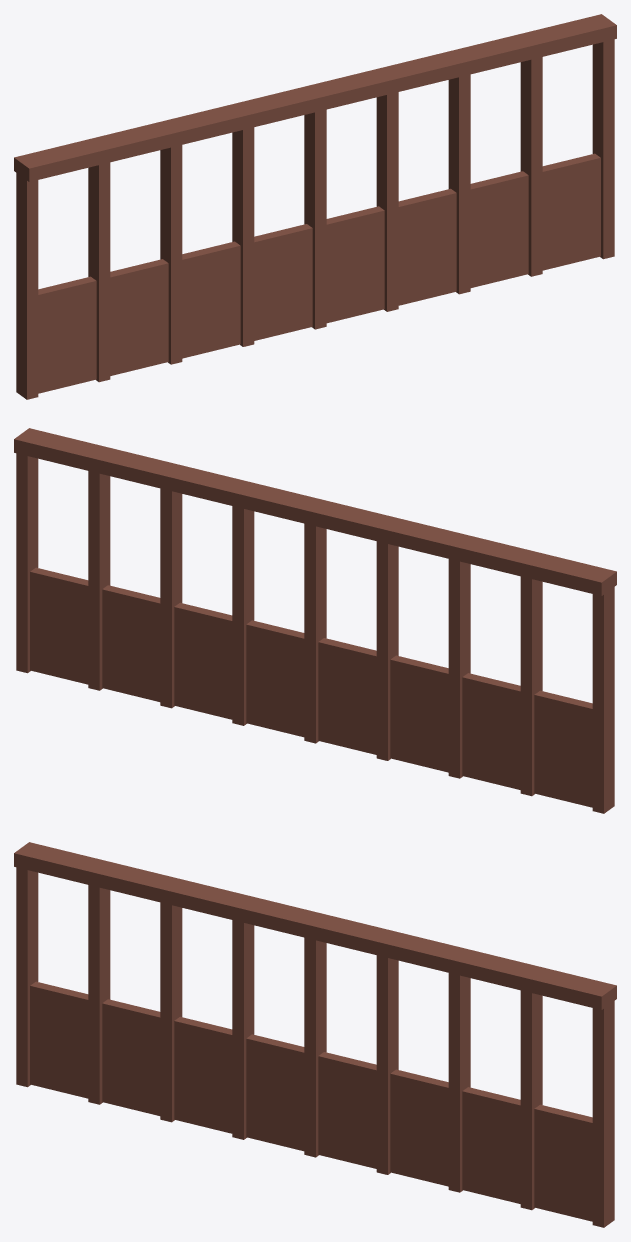
File: Partitions_015.glb
3 views of the same model, one above another, from view 1: azimuth 30°, elevation 25°; view 2: azimuth 150°, elevation 25°; view 3: azimuth 330°, elevation 25° (orthographic).
Parts seen in each view (by area): view 1: Partitions_015; view 2: Partitions_015; view 3: Partitions_015.
Part boxes in pixels (x1,y1,x2,y2): Partitions_015: [14, 14, 616, 399]; Partitions_015: [14, 428, 616, 813]; Partitions_015: [14, 842, 616, 1227].
Bounding box in the file's own units: 2 × 0.7574 × 0.0898.
1 material, 1 textured.
